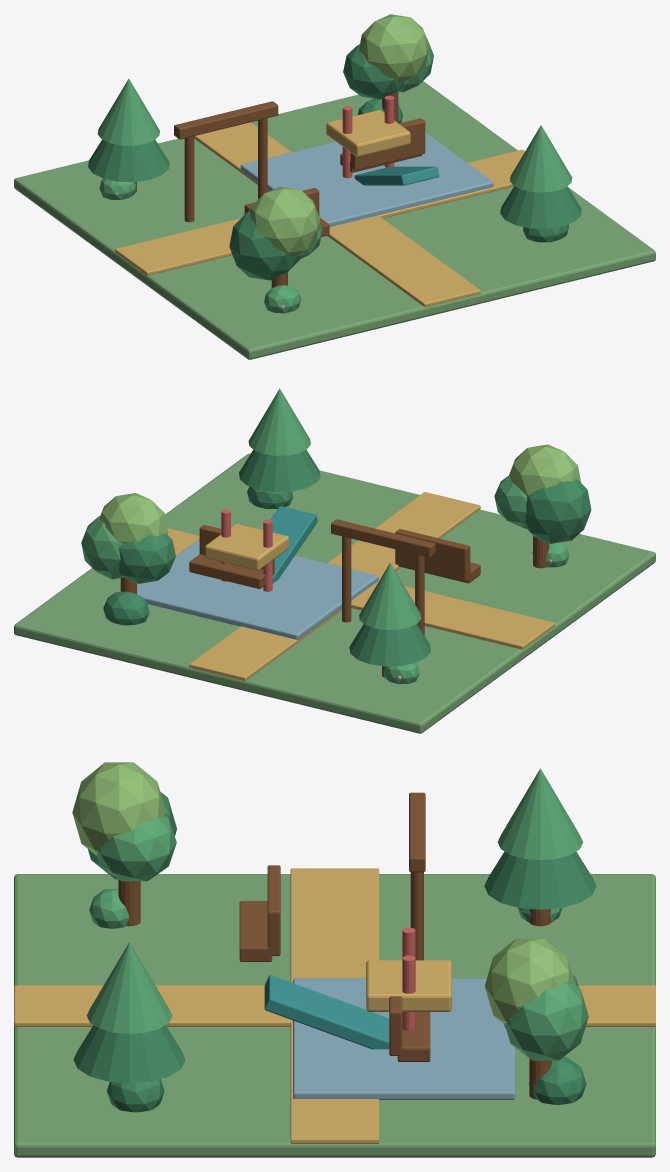
File: PARK_2x2_002.glb
3 views of the same model, one above another, from view 1: azimuth 30°, elevation 25°; view 2: azimuth 150°, elevation 25°; view 3: azimuth 270°, elevation 25° (orthographic). The views are drawn at different scales.
Parts seen in each view (by area): view 1: PARK_2x2_002_Visual; view 2: PARK_2x2_002_Visual; view 3: PARK_2x2_002_Visual.
Boxes of the visible parts, x1,y1,x2,y2 form: PARK_2x2_002_Visual: (14,14,655,359); PARK_2x2_002_Visual: (14,388,655,733); PARK_2x2_002_Visual: (14,762,655,1157).
Size of what is drawn, in the model's own units: 3.9 by 1.16 by 3.9.
